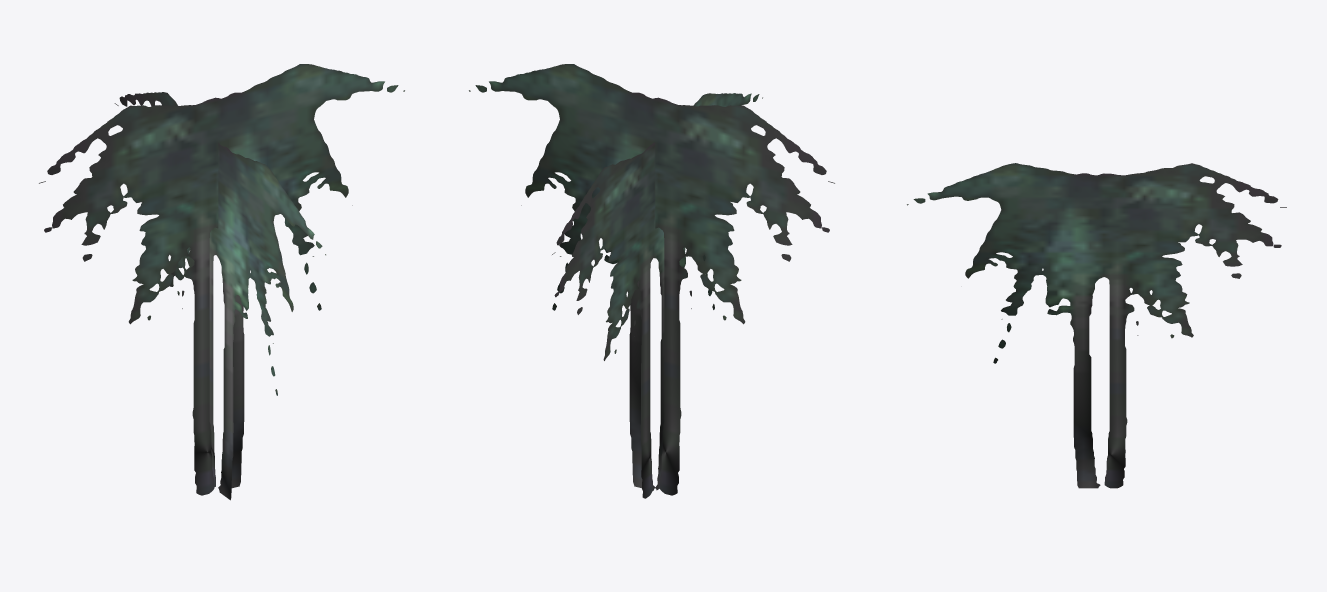
File: fern_tallstalkbig_blue_l2.fbx
3 views of the same model, side by side, from view 1: azimuth 30°, elevation 25°; view 2: azimuth 150°, elevation 25°; view 3: azimuth 270°, elevation 25° (orthographic). The views are drawn at different scales.
Parts seen in each view (by area): view 1: mesh_node; view 2: mesh_node; view 3: mesh_node.
Part boxes in pixels (x1,y1,x2,y2): mesh_node: (39, 64, 404, 500); mesh_node: (469, 64, 834, 498); mesh_node: (907, 163, 1286, 488).
Size of the model in its own units: 22 by 22 by 22.
1 material, 1 textured.
